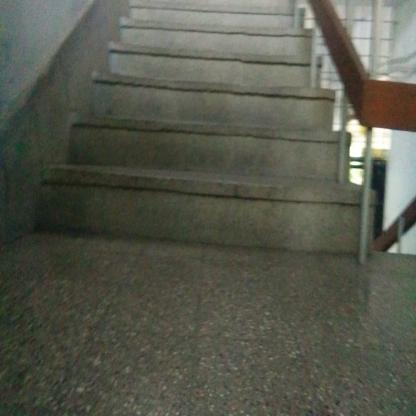stairs: (109, 67, 316, 265)
